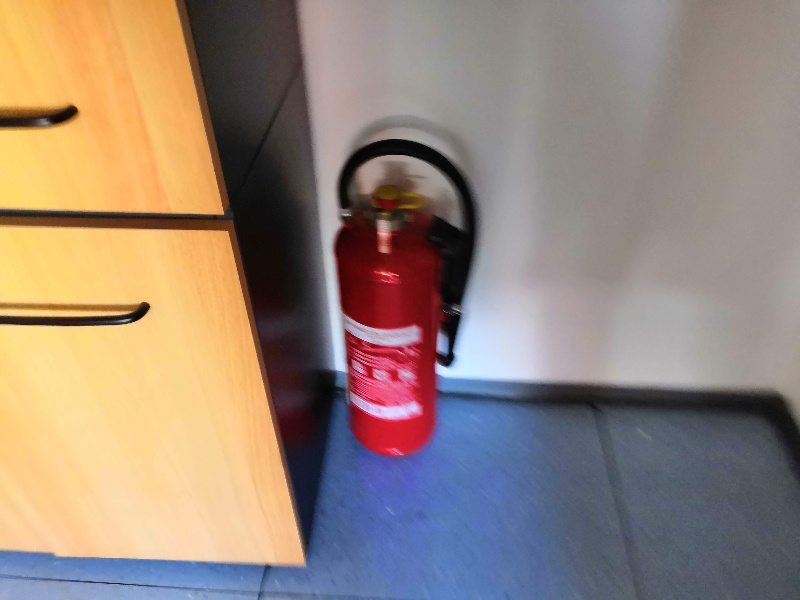vataparat: (333, 140, 475, 459)
